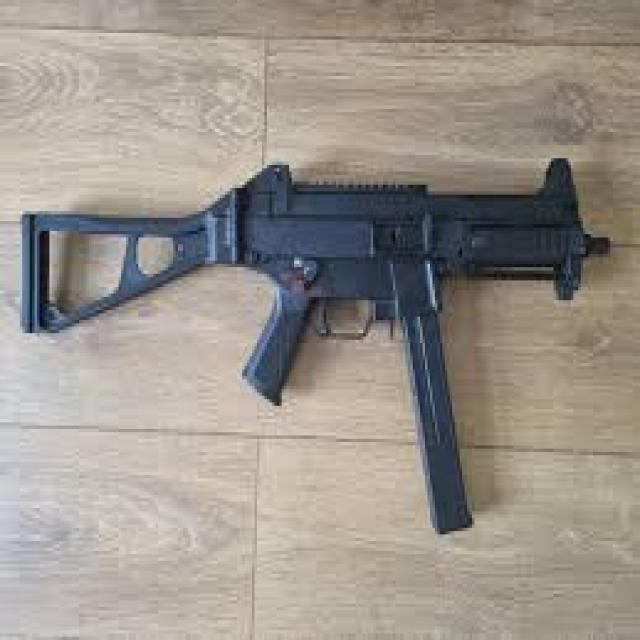Gun: (1, 139, 640, 548)
